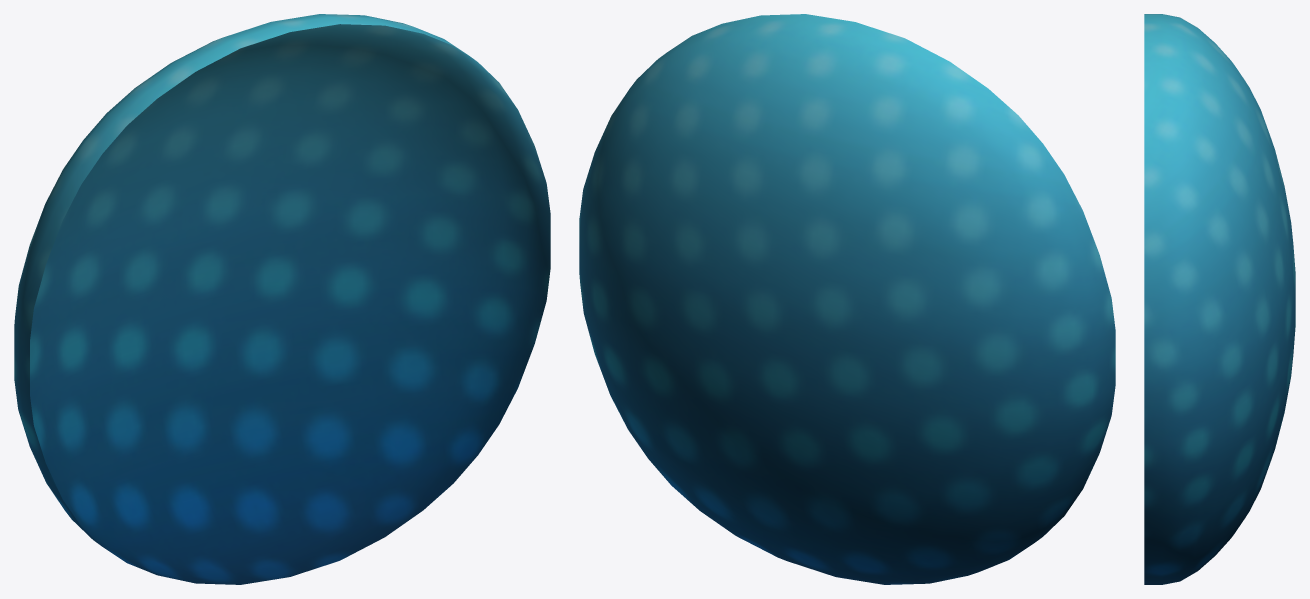
The model's file is InsidePortal_SkySphere.fbx.
3 renders of one model, left to right at view 1: azimuth 30°, elevation 25°; view 2: azimuth 150°, elevation 25°; view 3: azimuth 270°, elevation 25°, orthographic. The views are drawn at different scales.
Parts seen in each view (by area): view 1: Portal_GEO; view 2: Portal_GEO; view 3: Portal_GEO.
Boxes of the visible parts, left/top/right/bottom form: Portal_GEO: left=14, top=14, right=550, bottom=584; Portal_GEO: left=579, top=14, right=1115, bottom=584; Portal_GEO: left=1144, top=14, right=1295, bottom=584.
Bounding box in the file's own units: 5.38 × 5.38 × 1.44.
